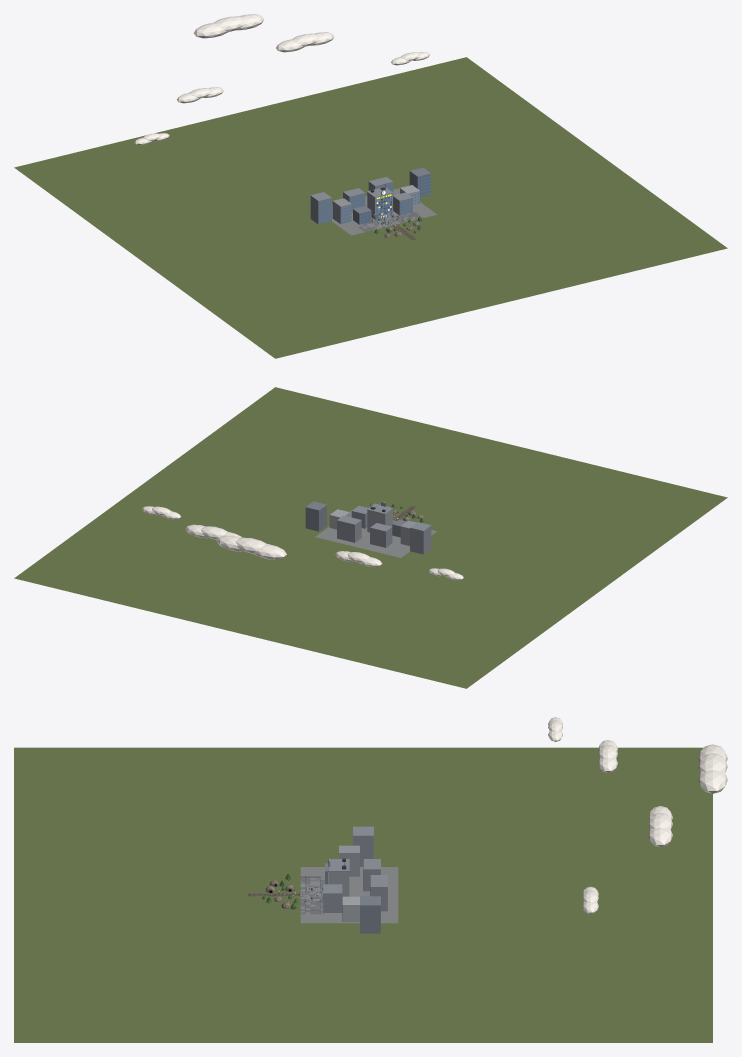
The model's file is commute.glb.
The picture shows the model from 3 angles, top to bottom: view 1: azimuth 30°, elevation 25°; view 2: azimuth 150°, elevation 25°; view 3: azimuth 270°, elevation 25°; orthographic projection. The views are drawn at different scales.
Parts seen in each view (by area): view 1: Commute; view 2: Commute; view 3: Commute.
Part boxes in pixels (x1,y1,x2,y2): Commute: [14, 14, 727, 358]; Commute: [14, 387, 727, 688]; Commute: [14, 717, 727, 1042].
Size of the model in its own units: 400 by 81.38 by 409.
